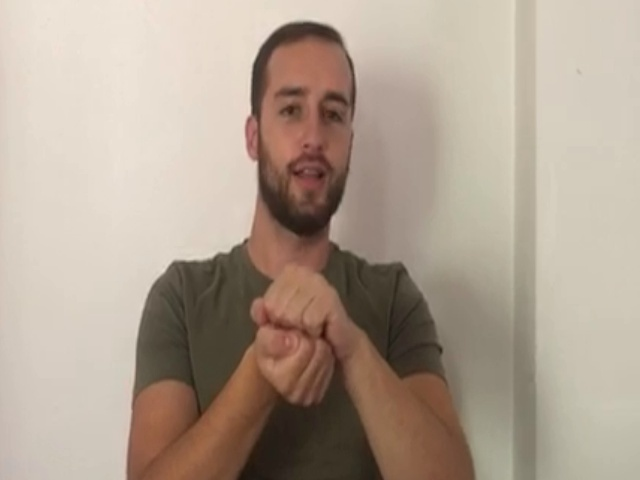Istorija: (246, 265, 358, 413)
